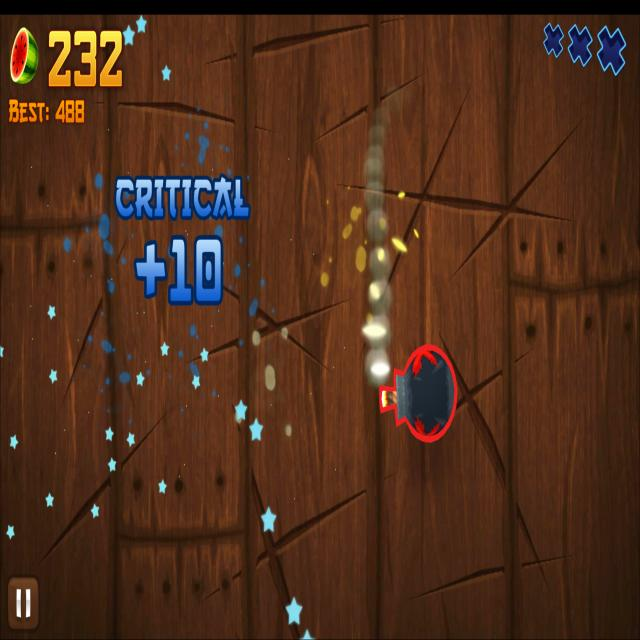bomb: (378, 343, 460, 443)
